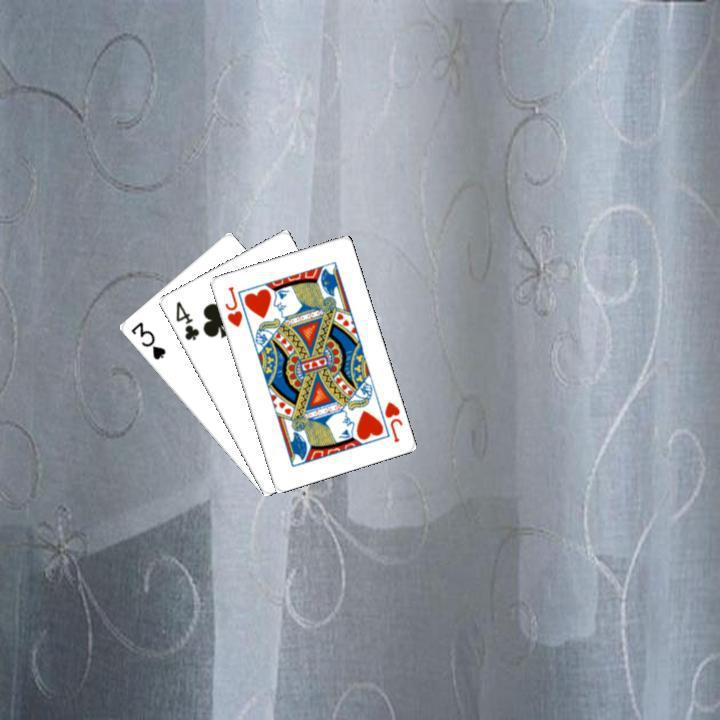3: (126, 317, 168, 362)
4: (171, 297, 201, 342)
J: (220, 282, 244, 329), (380, 397, 404, 444)
